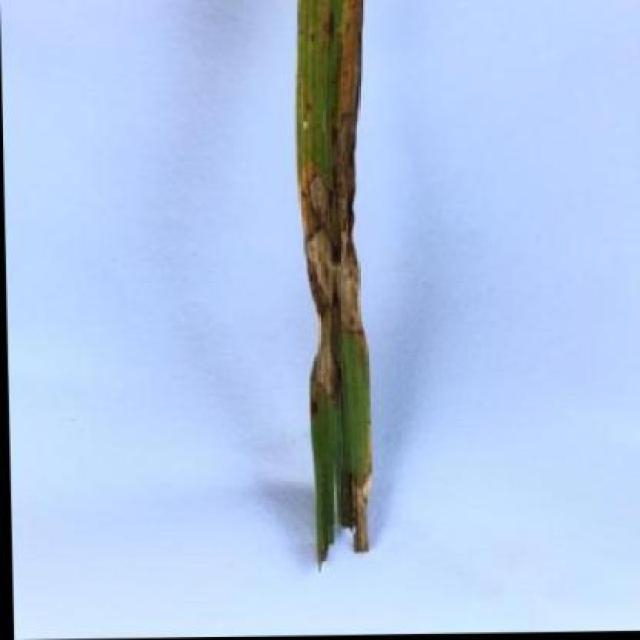Brown_Spot: (291, 0, 384, 580)
